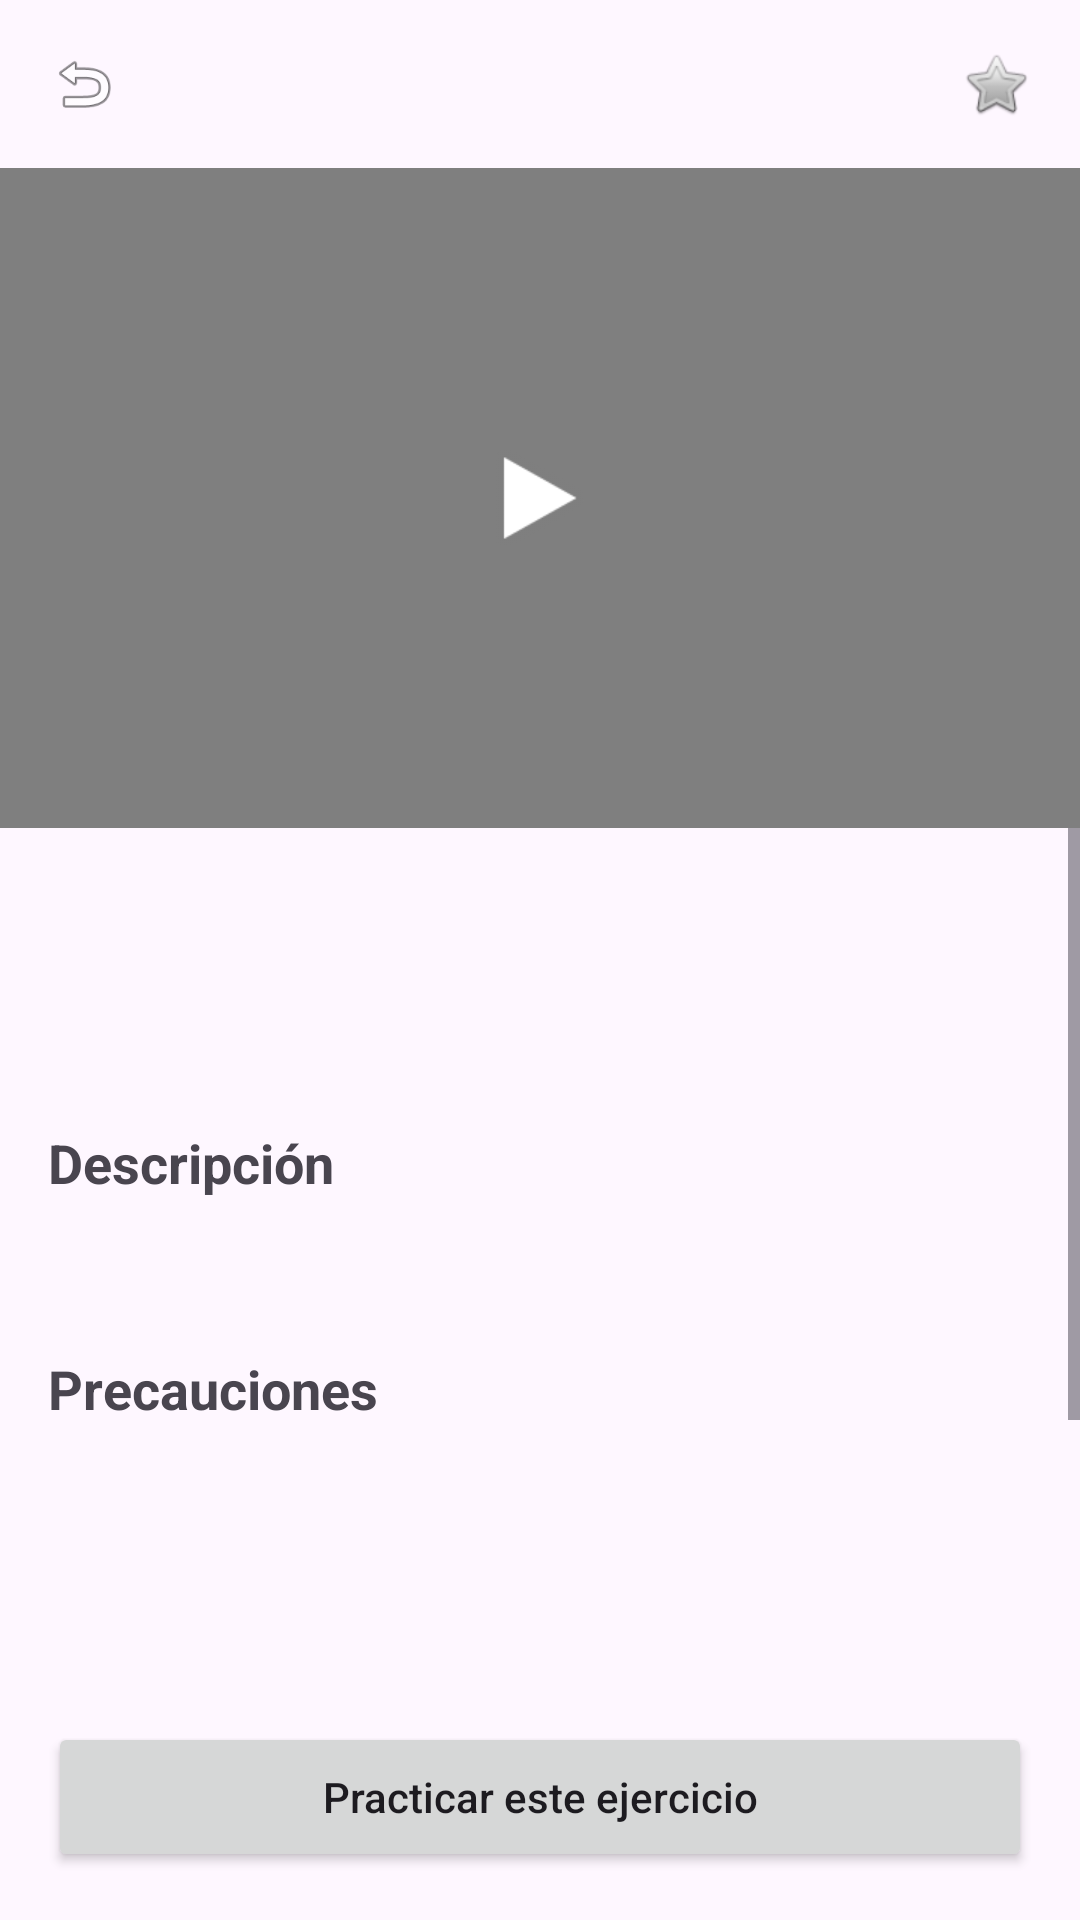

Where icons sit on this 1080 × 1920 app screen, as (x1,y1,x2,y2):
play: (504,457,576,539)
revert: (59,61,111,108)
star off: (967,55,1027,114)
